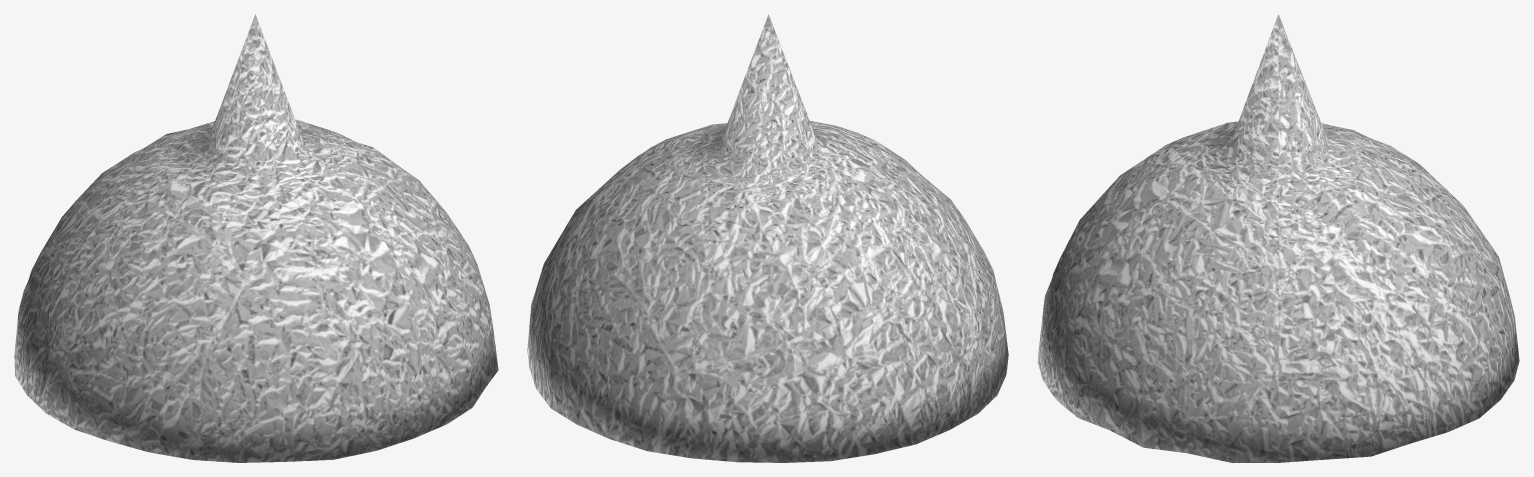
Rendered from tinfoilhat.fbx.
3 renders of one model, left to right at view 1: azimuth 30°, elevation 25°; view 2: azimuth 150°, elevation 25°; view 3: azimuth 270°, elevation 25°, orthographic.
Visible parts, largest first — view 1: Sphere; view 2: Sphere; view 3: Sphere.
Part boxes in pixels (x1,y1,x2,y2): Sphere: [14, 14, 498, 462]; Sphere: [527, 14, 1008, 462]; Sphere: [1037, 14, 1519, 462].
Bounding box in the file's own units: 202 × 162 × 202.
Materials: 1 (1 with a texture image).
